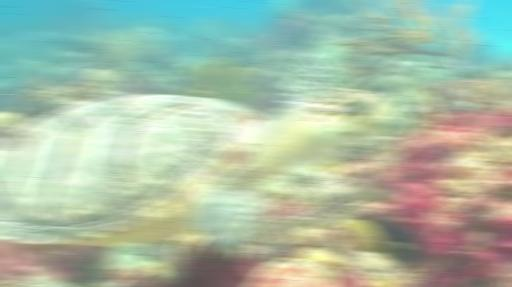Fish: (0, 55, 391, 254)
